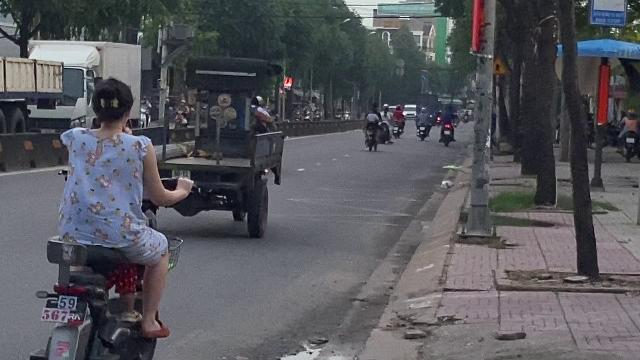motorcyclist: (33, 76, 185, 358)
nohelmet: (89, 75, 135, 128)
